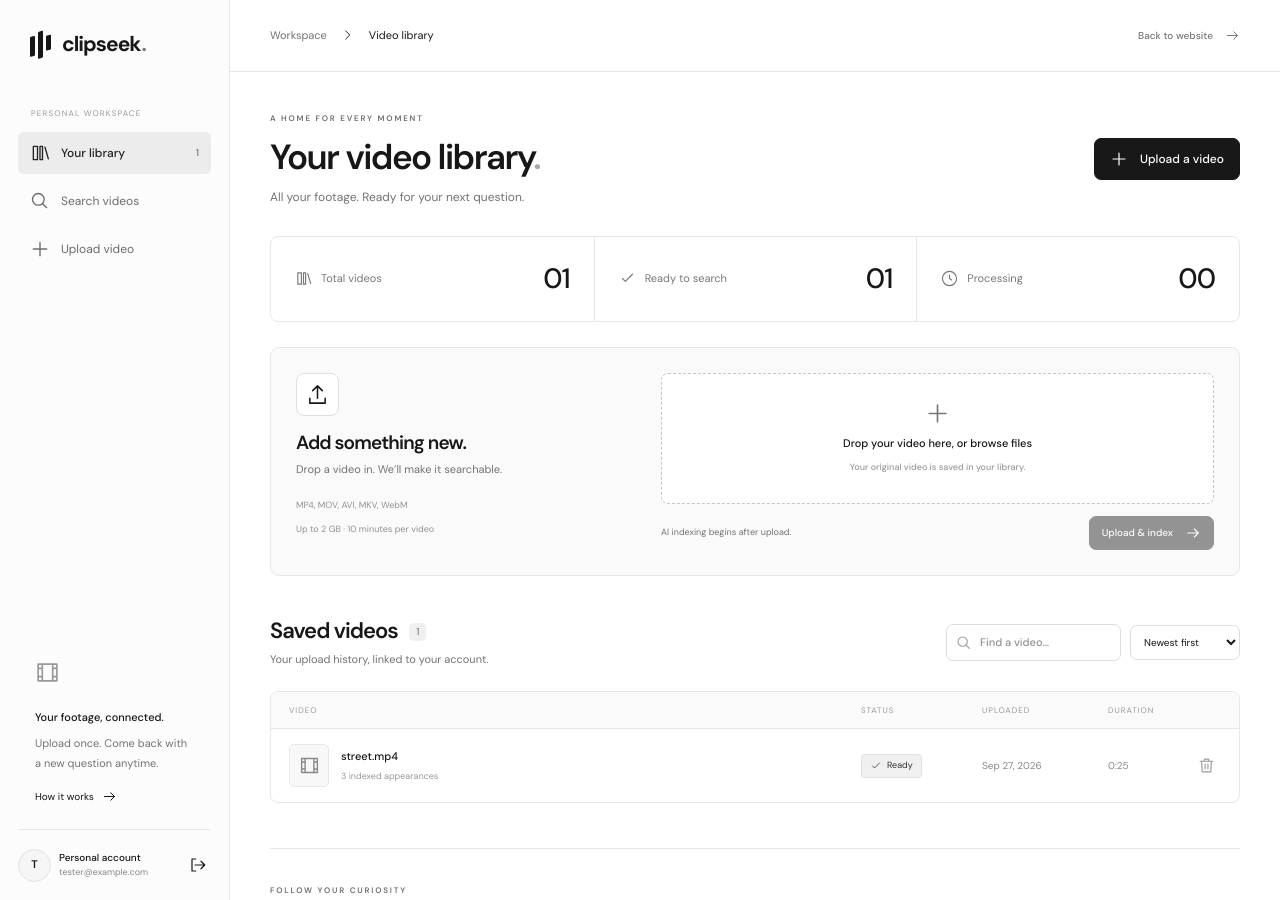
Test: HomePage upload button › filters the persistent library by filename without hiding the search scope
Expected: the button named "Open street.mp4" is shown, [289,744,845,787]
In the field labelled "Find a video": (1034, 643) [946,624,1121,661], type "missing"
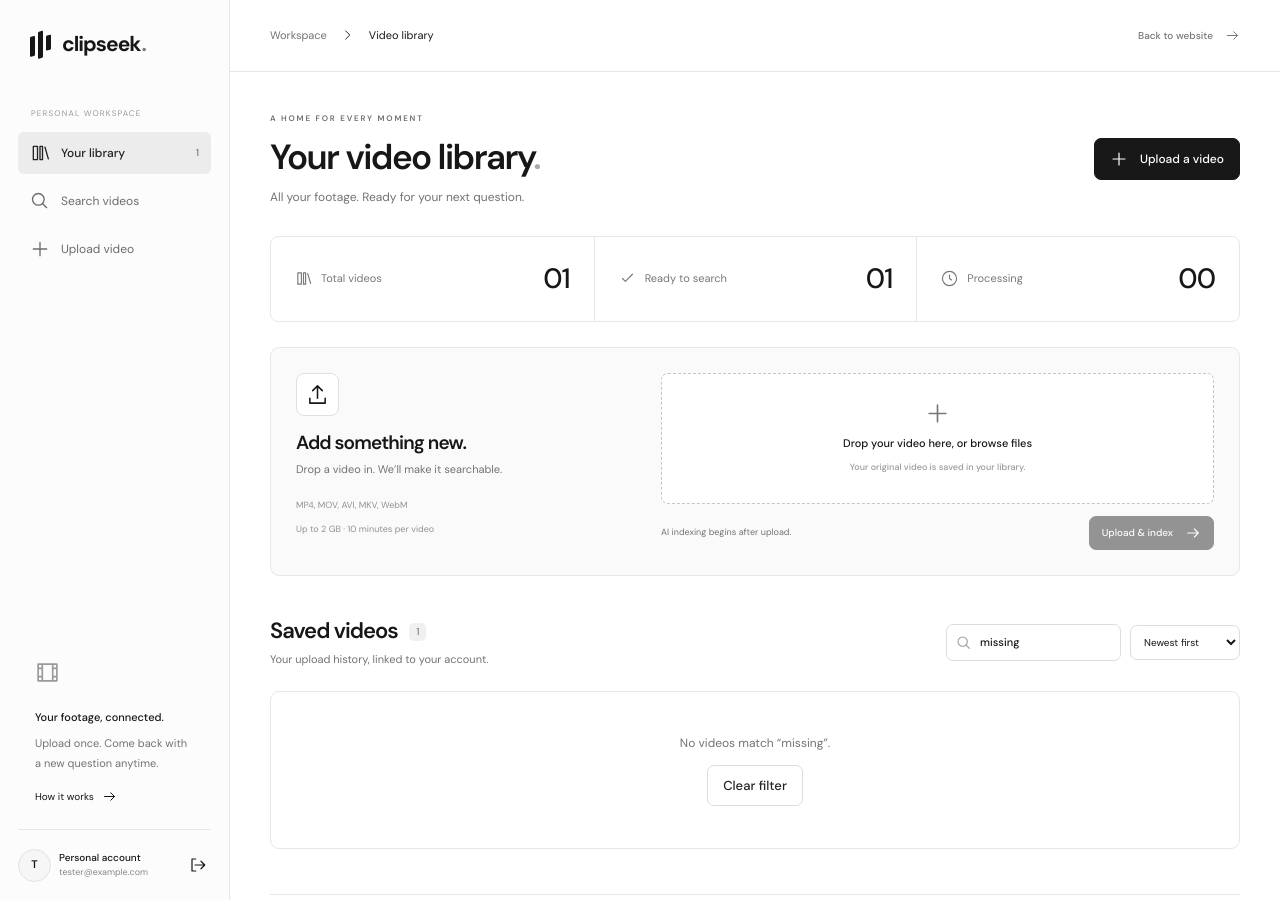
Click the button "Clear filter": (755, 785) [707,765,803,806]
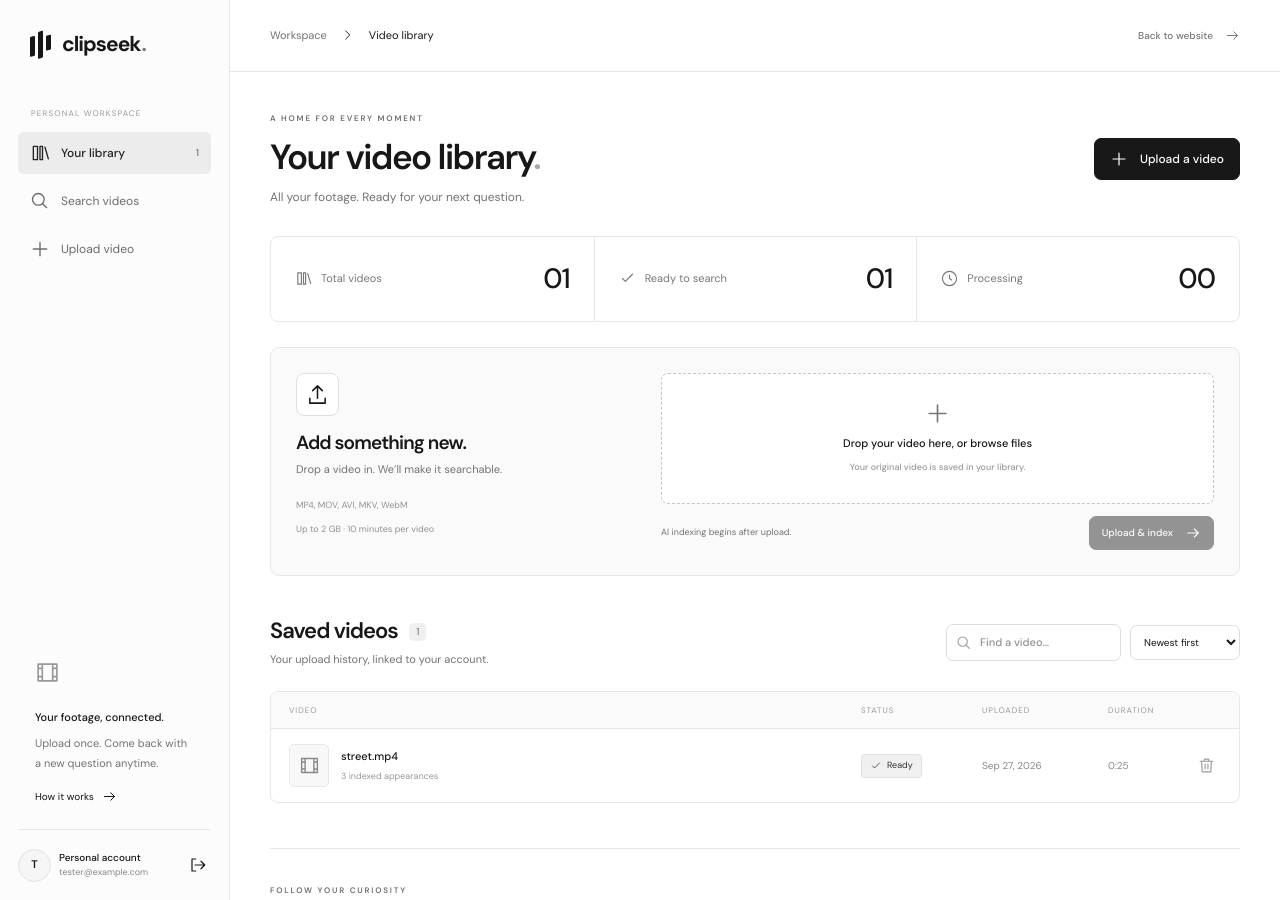
Expected: the button named "Open street.mp4" is shown, [289,744,845,787]
